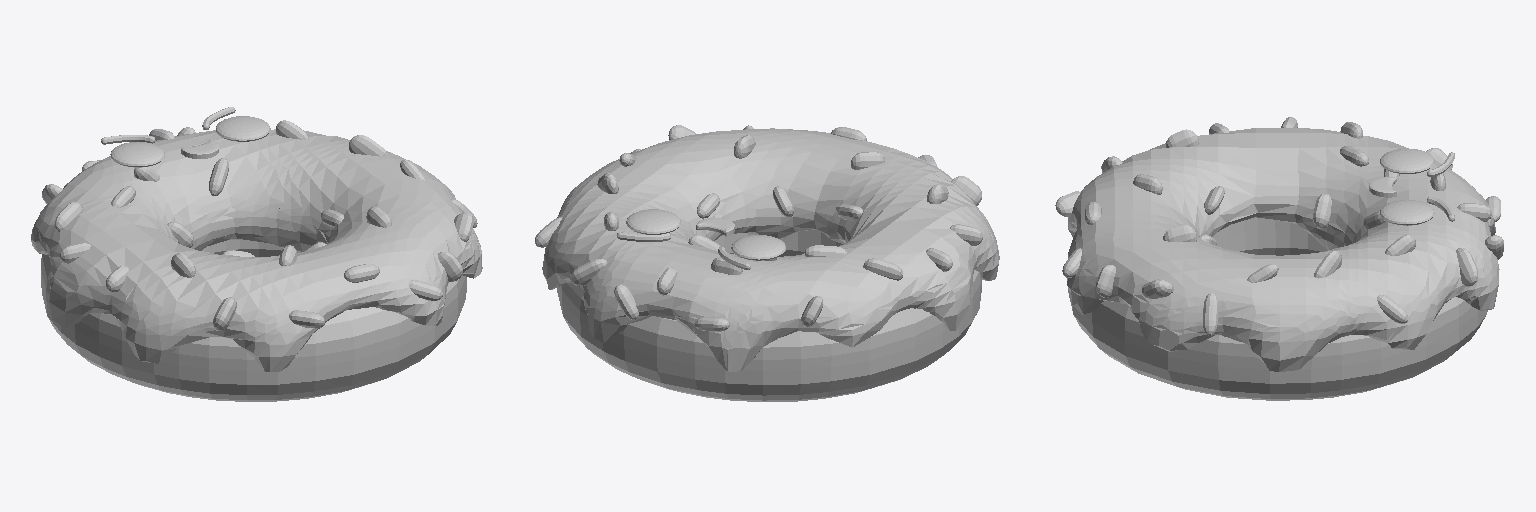
Rendered from donut_sample.obj.
3 views of the same model, side by side, from view 1: azimuth 30°, elevation 25°; view 2: azimuth 150°, elevation 25°; view 3: azimuth 270°, elevation 25° (orthographic).
Parts seen in each view (by area): view 1: donut, donut group1, donut_face eyes, donut_face eyebrows; view 2: donut, donut group1, donut_face eyes, donut_face eyebrows; view 3: donut, donut group1, donut_face eyes.
Boxes of the visible parts, x1=… form: donut: x1=31, y1=120, x2=482, y2=401; donut group1: x1=41, y1=240, x2=466, y2=384; donut_face eyes: x1=110, y1=116, x2=270, y2=167; donut_face eyebrows: x1=101, y1=107, x2=235, y2=144; donut: x1=535, y1=125, x2=999, y2=401; donut group1: x1=557, y1=229, x2=981, y2=384; donut_face eyes: x1=626, y1=209, x2=785, y2=260; donut_face eyebrows: x1=617, y1=232, x2=750, y2=269; donut: x1=1055, y1=117, x2=1503, y2=400; donut group1: x1=1067, y1=217, x2=1487, y2=383; donut_face eyes: x1=1380, y1=148, x2=1434, y2=225.
Bounding box in the file's own units: 0.4966 × 0.1769 × 0.488.